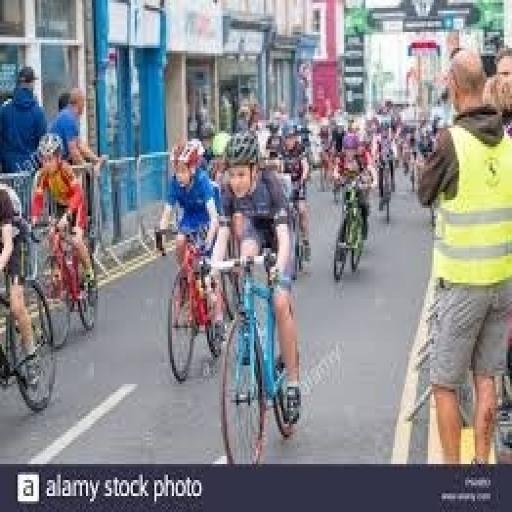cycling: (205, 128, 305, 429), (152, 136, 227, 349), (27, 131, 100, 309)
